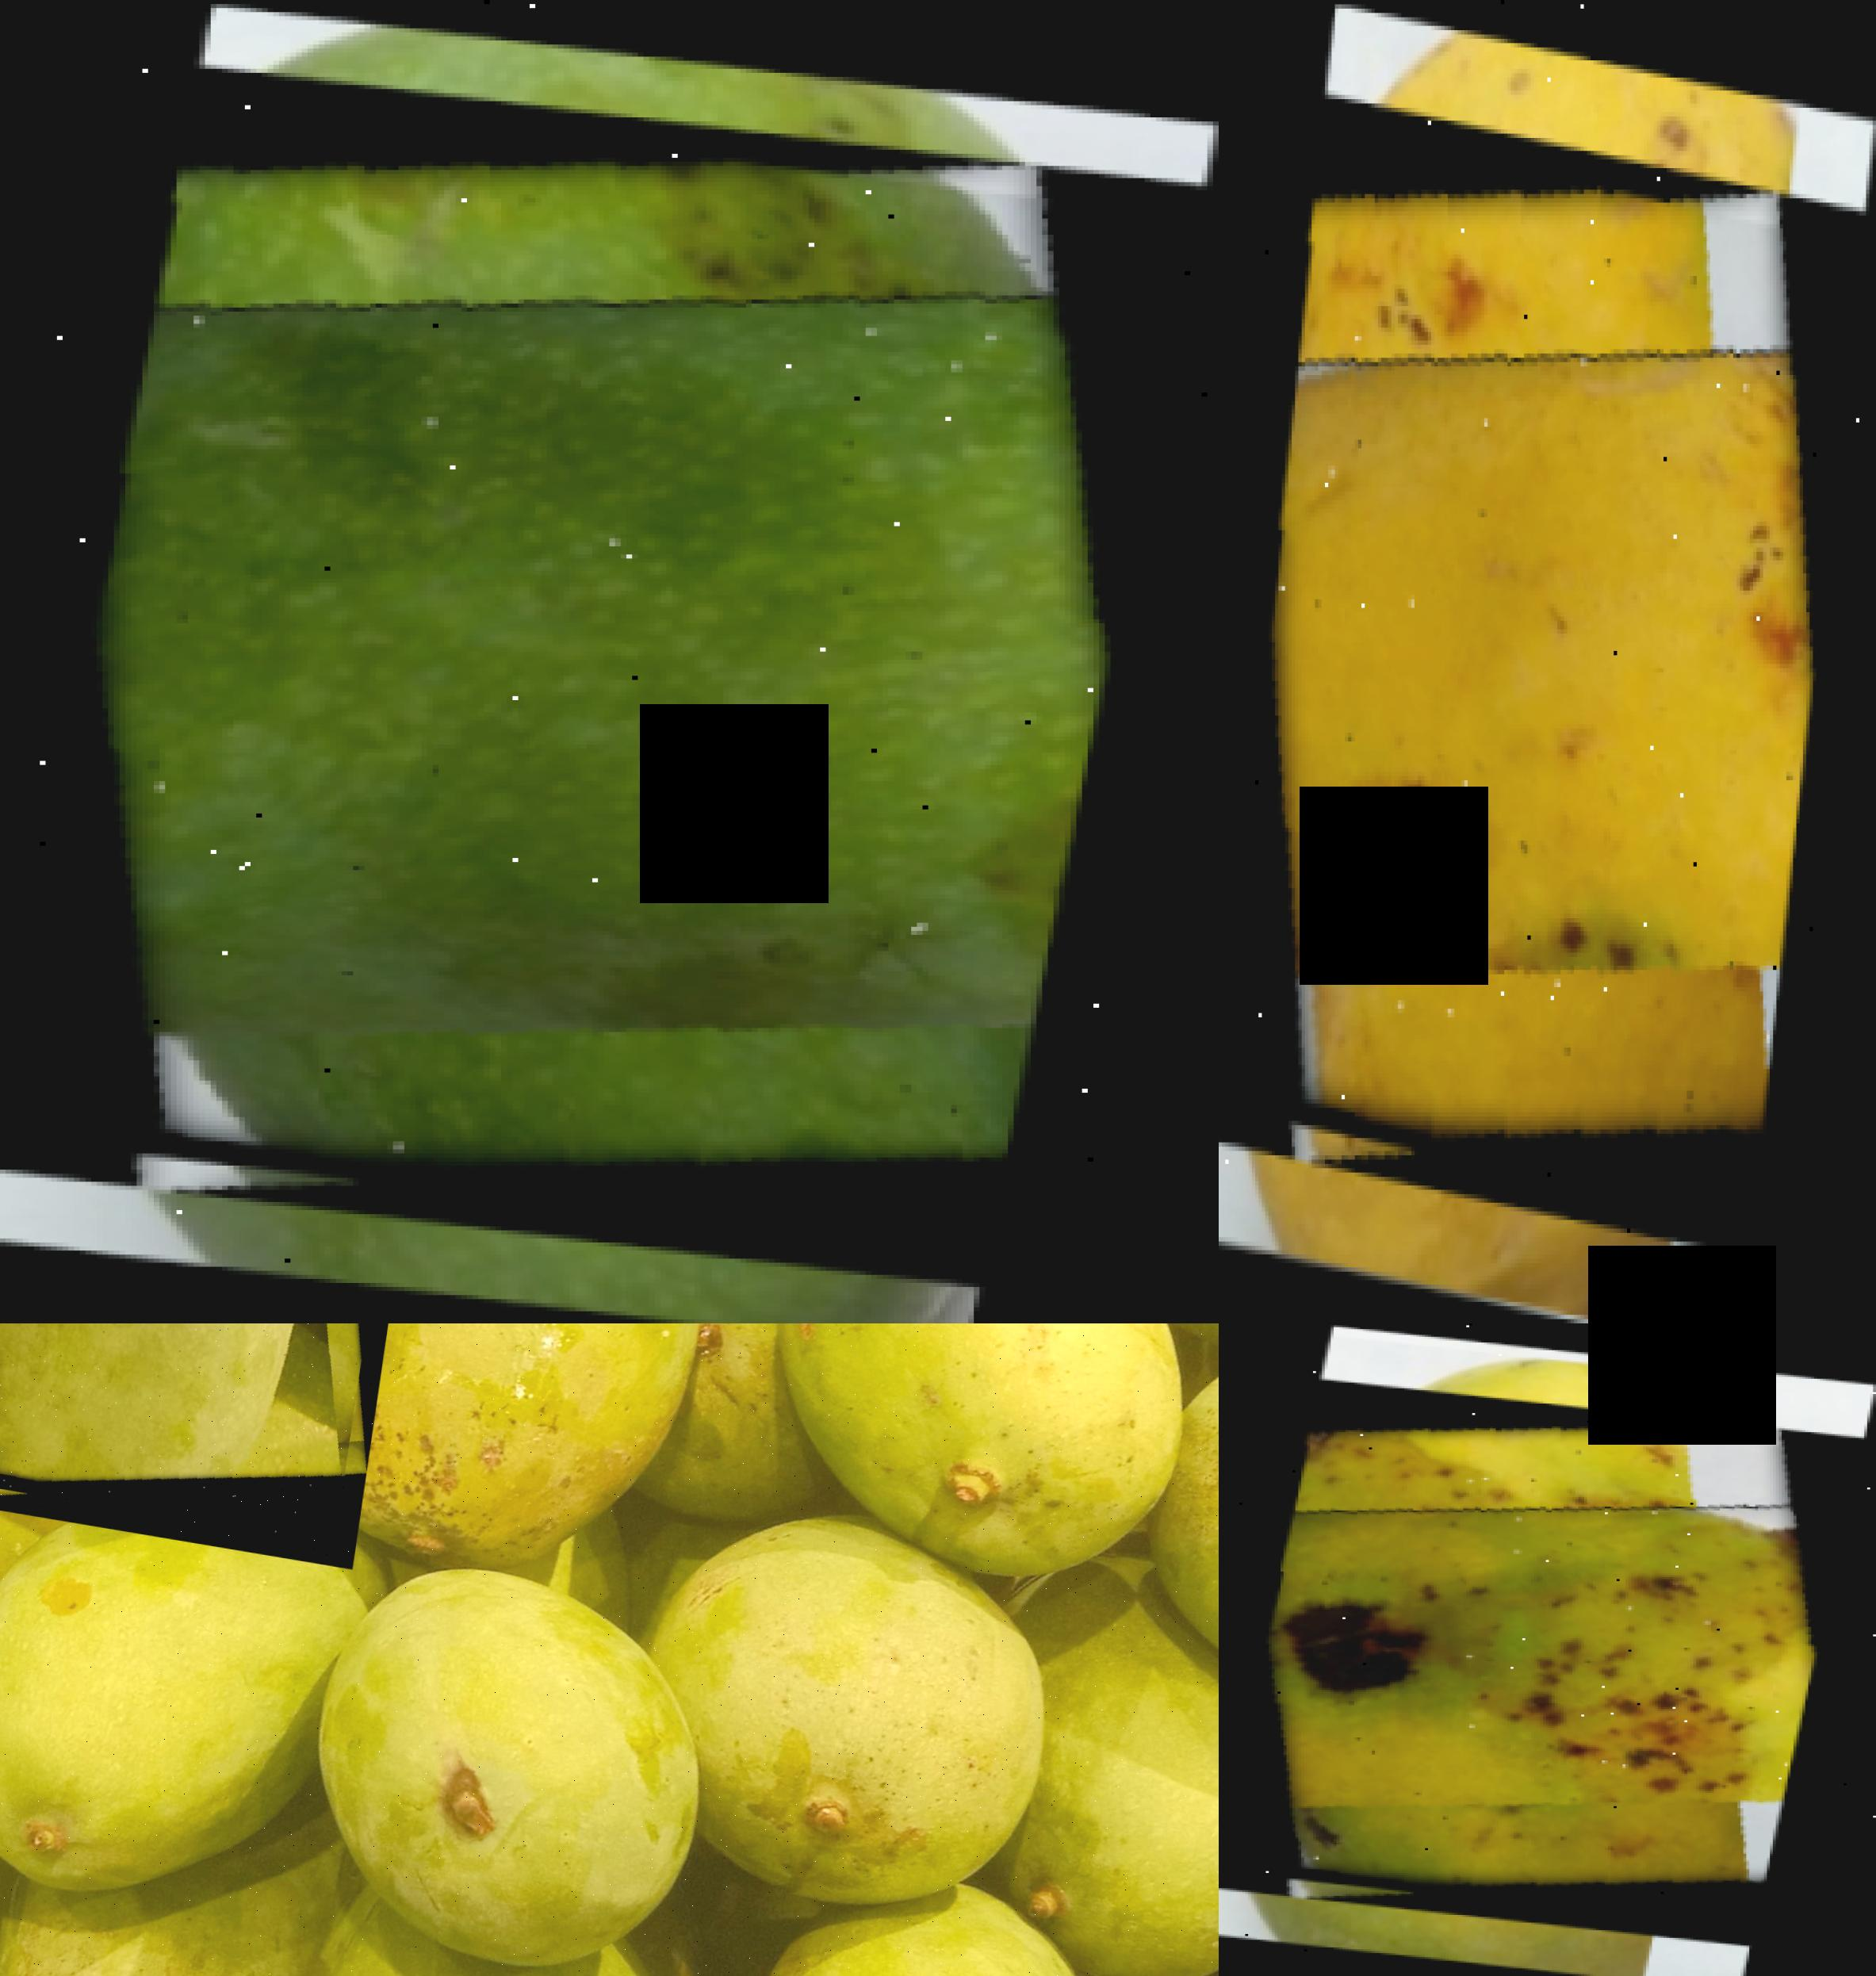PartiallyRipe: (1219, 1393, 1862, 1932)
Ripe: (1219, 124, 1863, 1229), (0, 1323, 404, 1548)
Unripe: (0, 91, 1199, 1262)
